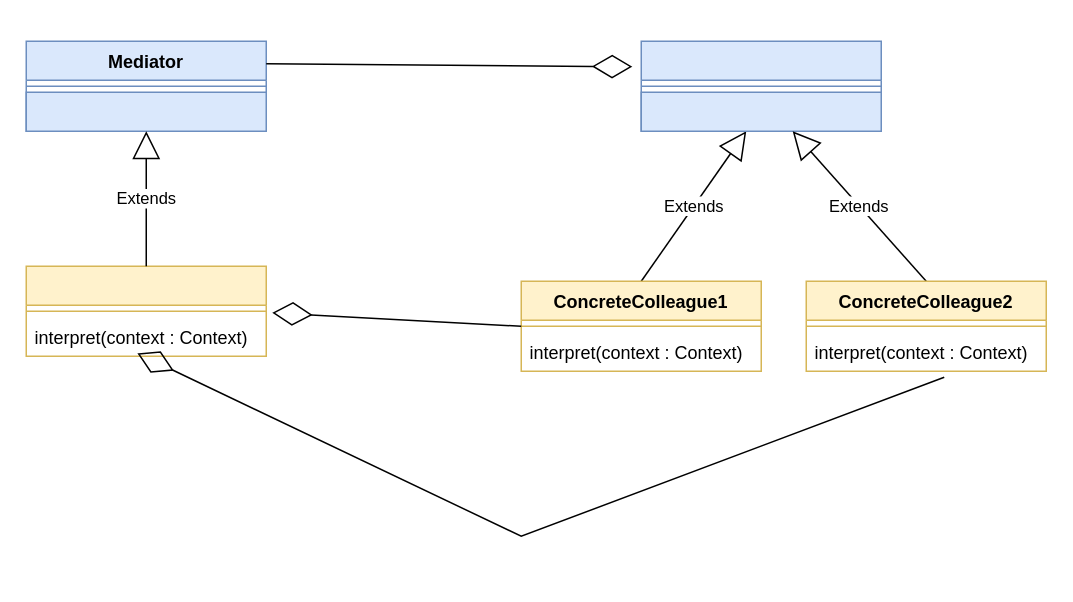
Some shapes in this 1073 by 602 pixel diagram are drawn without their labels. Here are the shapes that lost their labels. From the top down, the box of each, then its label:
(640, 40, 881, 131): Colleague
(25, 265, 266, 356): ContcreteMediator
